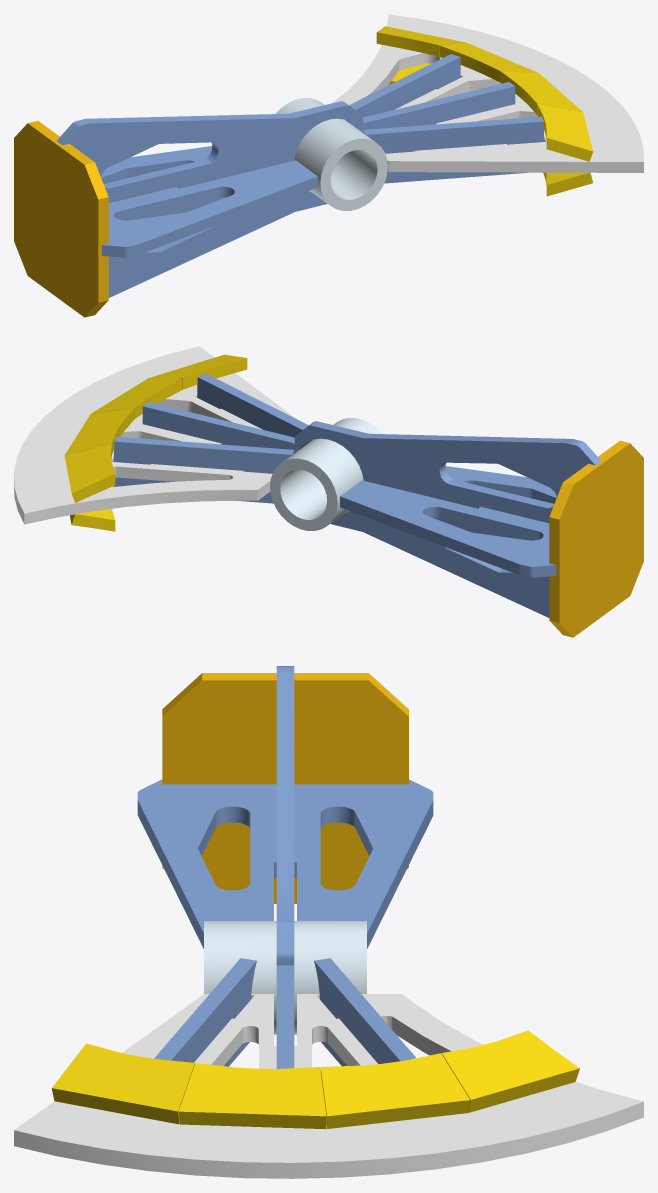
The model's file is Stormbreaker_internal.glb.
The picture shows the model from 3 angles, top to bottom: view 1: azimuth 30°, elevation 25°; view 2: azimuth 150°, elevation 25°; view 3: azimuth 270°, elevation 25°; orthographic projection. The views are drawn at different scales.
Visible parts, largest first — view 1: Part 4, Part 1, Part 5, Part 3, Part 2, Part 10, Part 11, Part 6, Part 8, Part 9, Part 7, Part 12 (+1 smaller); view 2: Part 4, Part 1, Part 5, Part 3, Part 2, Part 11, Part 10, Part 7, Part 9, Part 8, Part 6, Part 21 (+1 smaller); view 3: Part 1, Part 5, Part 3, Part 2, Part 8, Part 9, Part 4, Part 6, Part 7, Part 11, Part 10.
Boxes of the visible parts, left/top/right/bottom form: Part 4: left=57, top=82, right=515, bottom=297; Part 1: left=332, top=14, right=643, bottom=172; Part 5: left=14, top=120, right=108, bottom=317; Part 3: left=101, top=146, right=317, bottom=257; Part 2: left=276, top=98, right=387, bottom=210; Part 10: left=363, top=116, right=543, bottom=153; Part 11: left=346, top=54, right=460, bottom=125; Part 6: left=537, top=103, right=593, bottom=161; Part 8: left=500, top=71, right=582, bottom=114; Part 9: left=439, top=42, right=537, bottom=81; Part 7: left=376, top=26, right=465, bottom=56; Part 12: left=384, top=172, right=527, bottom=183; Part 4: left=142, top=402, right=600, bottom=617; Part 1: left=14, top=346, right=296, bottom=524; Part 5: left=549, top=440, right=643, bottom=637; Part 3: left=340, top=466, right=556, bottom=577; Part 2: left=270, top=418, right=381, bottom=530; Part 11: left=114, top=436, right=293, bottom=473; Part 10: left=197, top=374, right=311, bottom=445; Part 7: left=64, top=443, right=115, bottom=503; Part 9: left=65, top=408, right=133, bottom=455; Part 8: left=91, top=378, right=182, bottom=419; Part 6: left=148, top=354, right=247, bottom=389; Part 21: left=70, top=509, right=115, bottom=531; Part 1: left=14, top=994, right=643, bottom=1178; Part 5: left=162, top=673, right=408, bottom=903; Part 3: left=137, top=779, right=433, bottom=948; Part 2: left=204, top=921, right=366, bottom=1034; Part 8: left=178, top=1063, right=326, bottom=1129; Part 9: left=320, top=1053, right=470, bottom=1128; Part 4: left=276, top=666, right=294, bottom=1068; Part 6: left=51, top=1043, right=194, bottom=1124; Part 7: left=442, top=1030, right=579, bottom=1112; Part 11: left=314, top=958, right=415, bottom=1063; Part 10: left=154, top=958, right=256, bottom=1062.
Bounding box in the file's own units: 0.3302 × 0.1069 × 0.2277.
